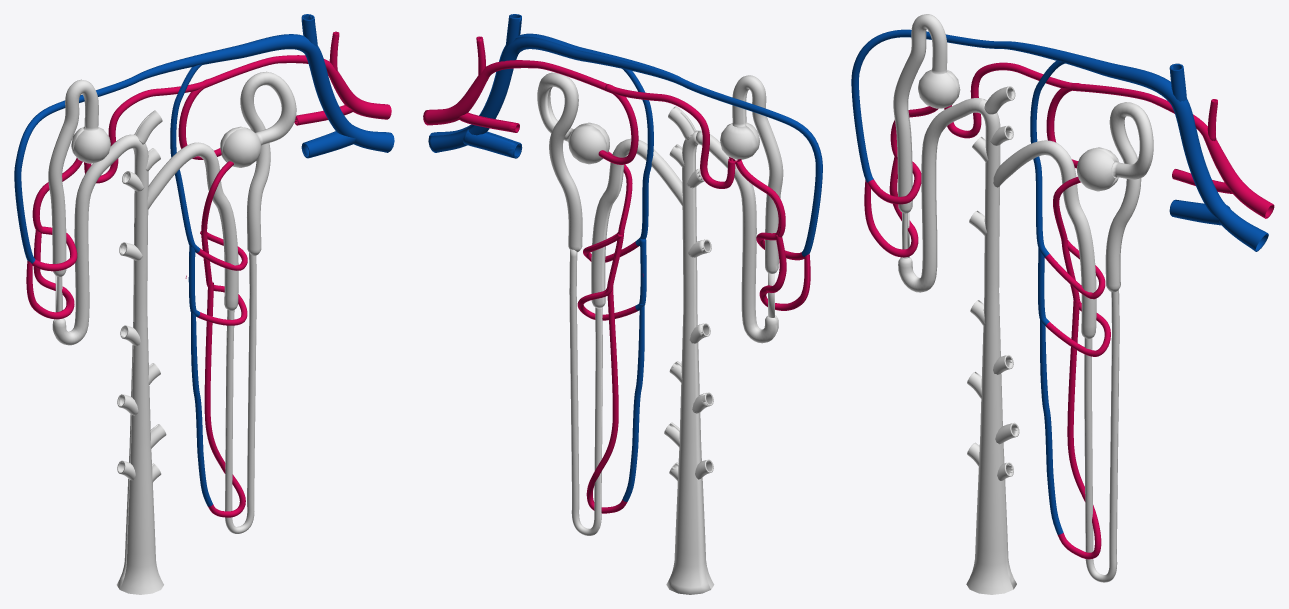
File: waleed.fbx
3 views of the same model, side by side, from view 1: azimuth 30°, elevation 25°; view 2: azimuth 150°, elevation 25°; view 3: azimuth 330°, elevation 25° (orthographic). The views are drawn at different scales.
Parts seen in each view (by area): view 1: BézierCurve.005, BézierCurve.012, BézierCurve.002, BézierCurve.018, BézierCurve.004, BézierCurve, BézierCurve.013, BézierCurve.021, BézierCurve.006, BézierCurve.016, BézierCurve.003, BézierCurve.028 (+5 smaller); view 2: BézierCurve.028, BézierCurve.015, BézierCurve.003, BézierCurve.017, BézierCurve.027, BézierCurve.023, BézierCurve.026, BézierCurve.024, BézierCurve.008, BézierCurve.012, BézierCurve.005, BézierCurve.029 (+5 smaller); view 3: BézierCurve.005, BézierCurve.012, BézierCurve.018, BézierCurve.002, BézierCurve.004, BézierCurve, BézierCurve.013, BézierCurve.006, BézierCurve.021, BézierCurve.016, BézierCurve.028, BézierCurve.001 (+6 smaller).
Part boxes in pixels (x1,y1,x2,y2): BézierCurve.005: (117, 111, 166, 594); BézierCurve.012: (14, 34, 394, 319); BézierCurve.002: (84, 32, 391, 183); BézierCurve.018: (189, 163, 247, 517); BézierCurve.004: (225, 253, 256, 533); BézierCurve: (241, 72, 296, 255); BézierCurve.013: (53, 135, 134, 345); BézierCurve.021: (49, 80, 98, 276); BézierCurve.006: (147, 143, 238, 310); BézierCurve.016: (170, 64, 247, 270); BézierCurve.003: (170, 67, 242, 511); BézierCurve.028: (116, 110, 159, 589); BézierCurve.028: (664, 107, 711, 594); BézierCurve.015: (428, 36, 821, 310); BézierCurve.003: (577, 68, 653, 513); BézierCurve.017: (423, 37, 734, 188); BézierCurve.027: (569, 249, 602, 535); BézierCurve.023: (537, 72, 581, 252); BézierCurve.026: (696, 131, 777, 343); BézierCurve.024: (591, 139, 682, 308); BézierCurve.008: (732, 75, 782, 273); BézierCurve.012: (429, 33, 822, 309); BézierCurve.005: (671, 106, 714, 589); BézierCurve.029: (568, 124, 606, 164); BézierCurve.005: (966, 86, 1017, 594); BézierCurve.012: (851, 29, 1267, 257); BézierCurve.018: (1038, 180, 1110, 559); BézierCurve.002: (944, 63, 1271, 218); BézierCurve.004: (1084, 290, 1118, 582); BézierCurve: (1105, 103, 1150, 292); BézierCurve.013: (898, 98, 982, 292); BézierCurve.006: (993, 141, 1095, 338); BézierCurve.021: (893, 14, 946, 213); BézierCurve.016: (1030, 60, 1105, 299); BézierCurve.028: (974, 86, 1019, 589); BézierCurve.001: (1076, 149, 1115, 191).
Size of the model in its own units: 306 by 400 by 32.88.
